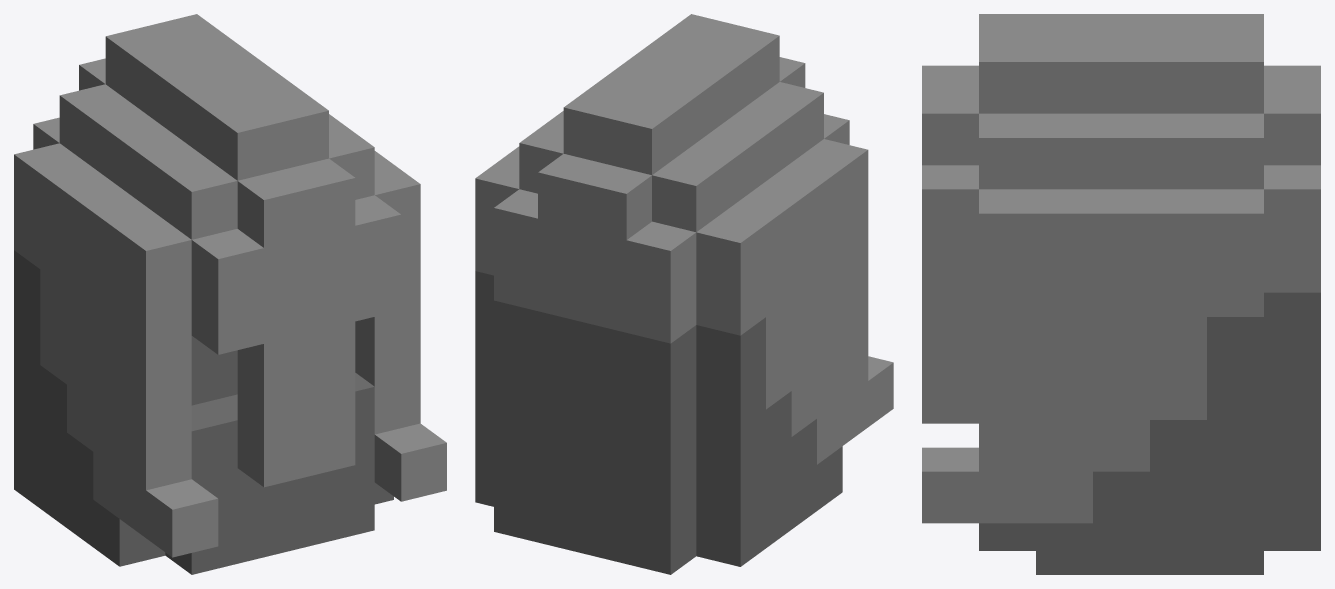
File: character-233-helm_hvy_2e_du.obj
The picture shows the model from 3 angles, left to right: view 1: azimuth 30°, elevation 25°; view 2: azimuth 150°, elevation 25°; view 3: azimuth 270°, elevation 25°; orthographic projection. The views are drawn at different scales.
Visible parts, largest first — view 1: helm_hvy_2e_du; view 2: helm_hvy_2e_du; view 3: helm_hvy_2e_du.
Part boxes in pixels (x1,y1,x2,y2): helm_hvy_2e_du: [14, 14, 446, 574]; helm_hvy_2e_du: [475, 14, 893, 574]; helm_hvy_2e_du: [922, 14, 1320, 574].
Size of the model in its own units: 0.6 by 0.9 by 0.7.
1 material, 1 textured.
